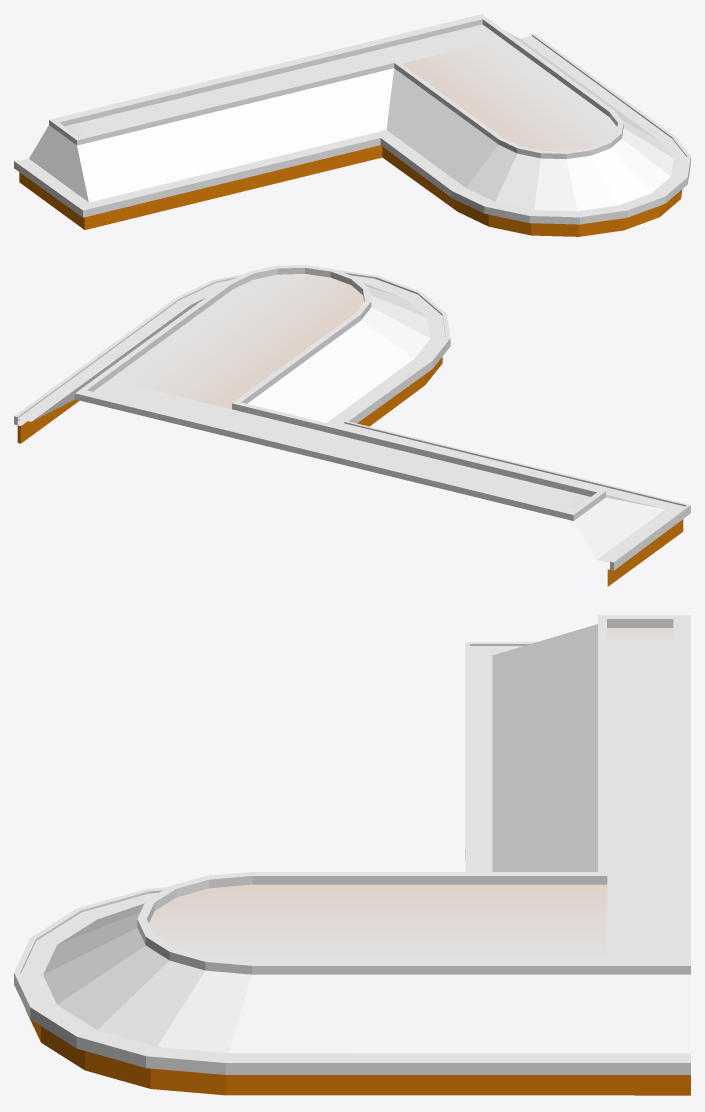
The model's file is 청주공항_ver0913-1.fbx.
3 renders of one model, top to bottom at view 1: azimuth 30°, elevation 25°; view 2: azimuth 150°, elevation 25°; view 3: azimuth 270°, elevation 25°, orthographic. The views are drawn at different scales.
Parts seen in each view (by area): view 1: Cylinder.004; view 2: Cylinder.004; view 3: Cylinder.004.
Part boxes in pixels (left/top/right/bottom): Cylinder.004: left=14, top=14, right=690, bottom=236; Cylinder.004: left=14, top=265, right=690, bottom=586; Cylinder.004: left=14, top=615, right=690, bottom=1095.
Size of the model in its own units: 883 by 89.41 by 599.
